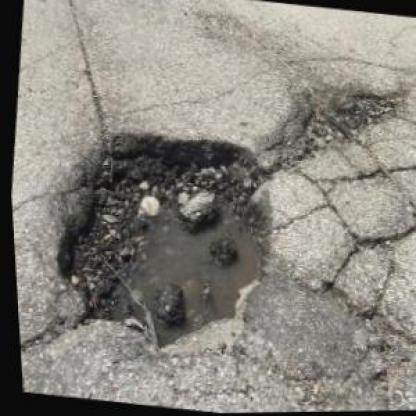pothole: (33, 116, 291, 364), (270, 76, 405, 180)
